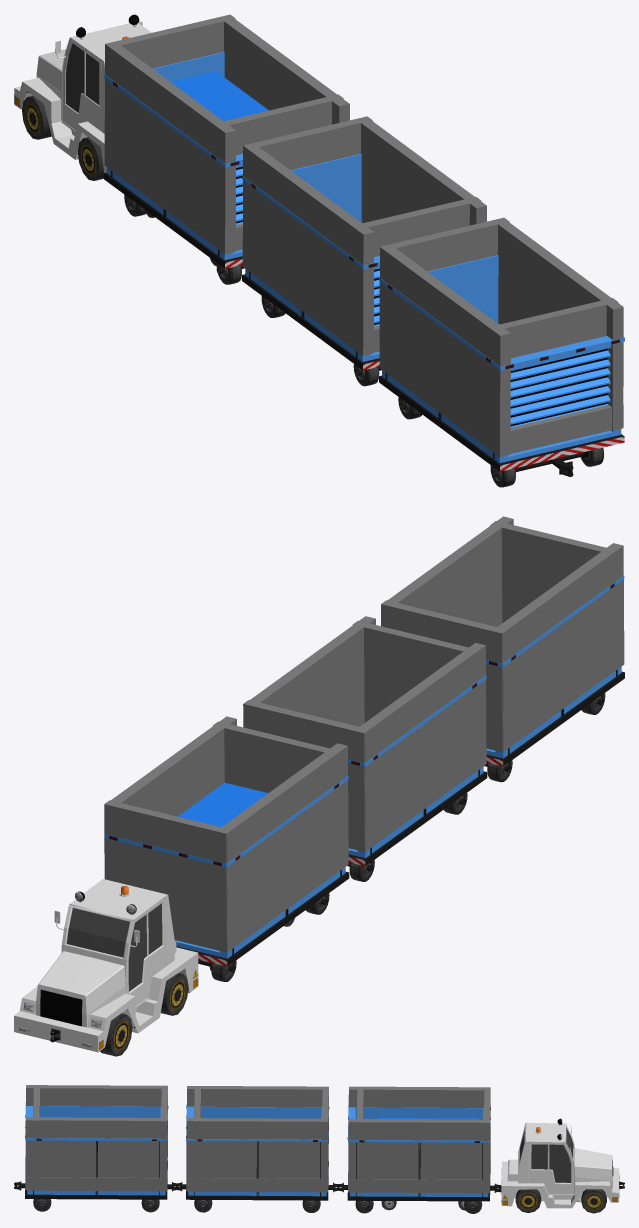
Rendered from LuggageTruckAnimationOptimized (3).fbx.
The picture shows the model from 3 angles, top to bottom: view 1: azimuth 30°, elevation 25°; view 2: azimuth 150°, elevation 25°; view 3: azimuth 270°, elevation 25°; orthographic projection. The views are drawn at different scales.
Visible parts, largest first — view 1: Cube_1, Cube_2, Cube, Box001_2, Cube__1__2, Craft_car, Cube__1__1, Cube__1_, Box001_1, Box001, Cube__2__2, Cube__3_ (+8 smaller); view 2: Craft_car, Cube, Cube_1, Cube_2, Cube__3_, Cube__1__1, Cube__1__2, Cube__2__1, Cube__2__2, Cube__1_, Cube__3__1, Cube__3__2 (+7 smaller); view 3: Cube__1__1, Cube__1__2, Cube__1_, Craft_car, Box001_2, Box001_1, Box001, Cube_2, Cube, Cube_1, Cube__4__2, Cube__4_ (+16 smaller).
Part boxes in pixels (x1,y1,x2,y2): Cube_1: (243, 144, 374, 355); Cube_2: (380, 245, 510, 456); Cube: (105, 42, 236, 254); Box001_2: (379, 255, 624, 477); Cube__1__2: (493, 218, 623, 430); Craft_car: (14, 14, 151, 172); Cube__1__1: (356, 117, 486, 225); Cube__1_: (219, 15, 349, 124); Box001_1: (242, 154, 381, 375); Box001: (104, 52, 244, 274); Cube__2__2: (489, 298, 618, 358); Cube__3_: (104, 14, 235, 164); Craft_car: (14, 879, 198, 1052); Cube: (217, 743, 348, 951); Cube_1: (355, 643, 486, 851); Cube_2: (495, 543, 624, 751); Cube__3_: (104, 800, 229, 952); Cube__1__1: (245, 616, 375, 726); Cube__1__2: (383, 516, 513, 626); Cube__2__1: (352, 620, 478, 722); Cube__2__2: (490, 521, 612, 622); Cube__1_: (106, 716, 236, 816); Cube__3__1: (243, 700, 365, 851); Cube__3__2: (381, 600, 506, 752); Cube__1__1: (186, 1118, 327, 1191); Cube__1__2: (25, 1117, 166, 1190); Cube__1_: (348, 1119, 489, 1192); Craft_car: (499, 1118, 624, 1208); Box001_2: (14, 1103, 178, 1207); Box001_1: (175, 1104, 338, 1208); Box001: (337, 1105, 501, 1209); Cube_2: (26, 1085, 167, 1106); Cube: (348, 1086, 486, 1107); Cube_1: (187, 1086, 325, 1107); Cube__4__2: (26, 1177, 167, 1191); Cube__4_: (349, 1179, 488, 1193).
Size of the model in its own units: 65.71 by 80.14 by 459.
